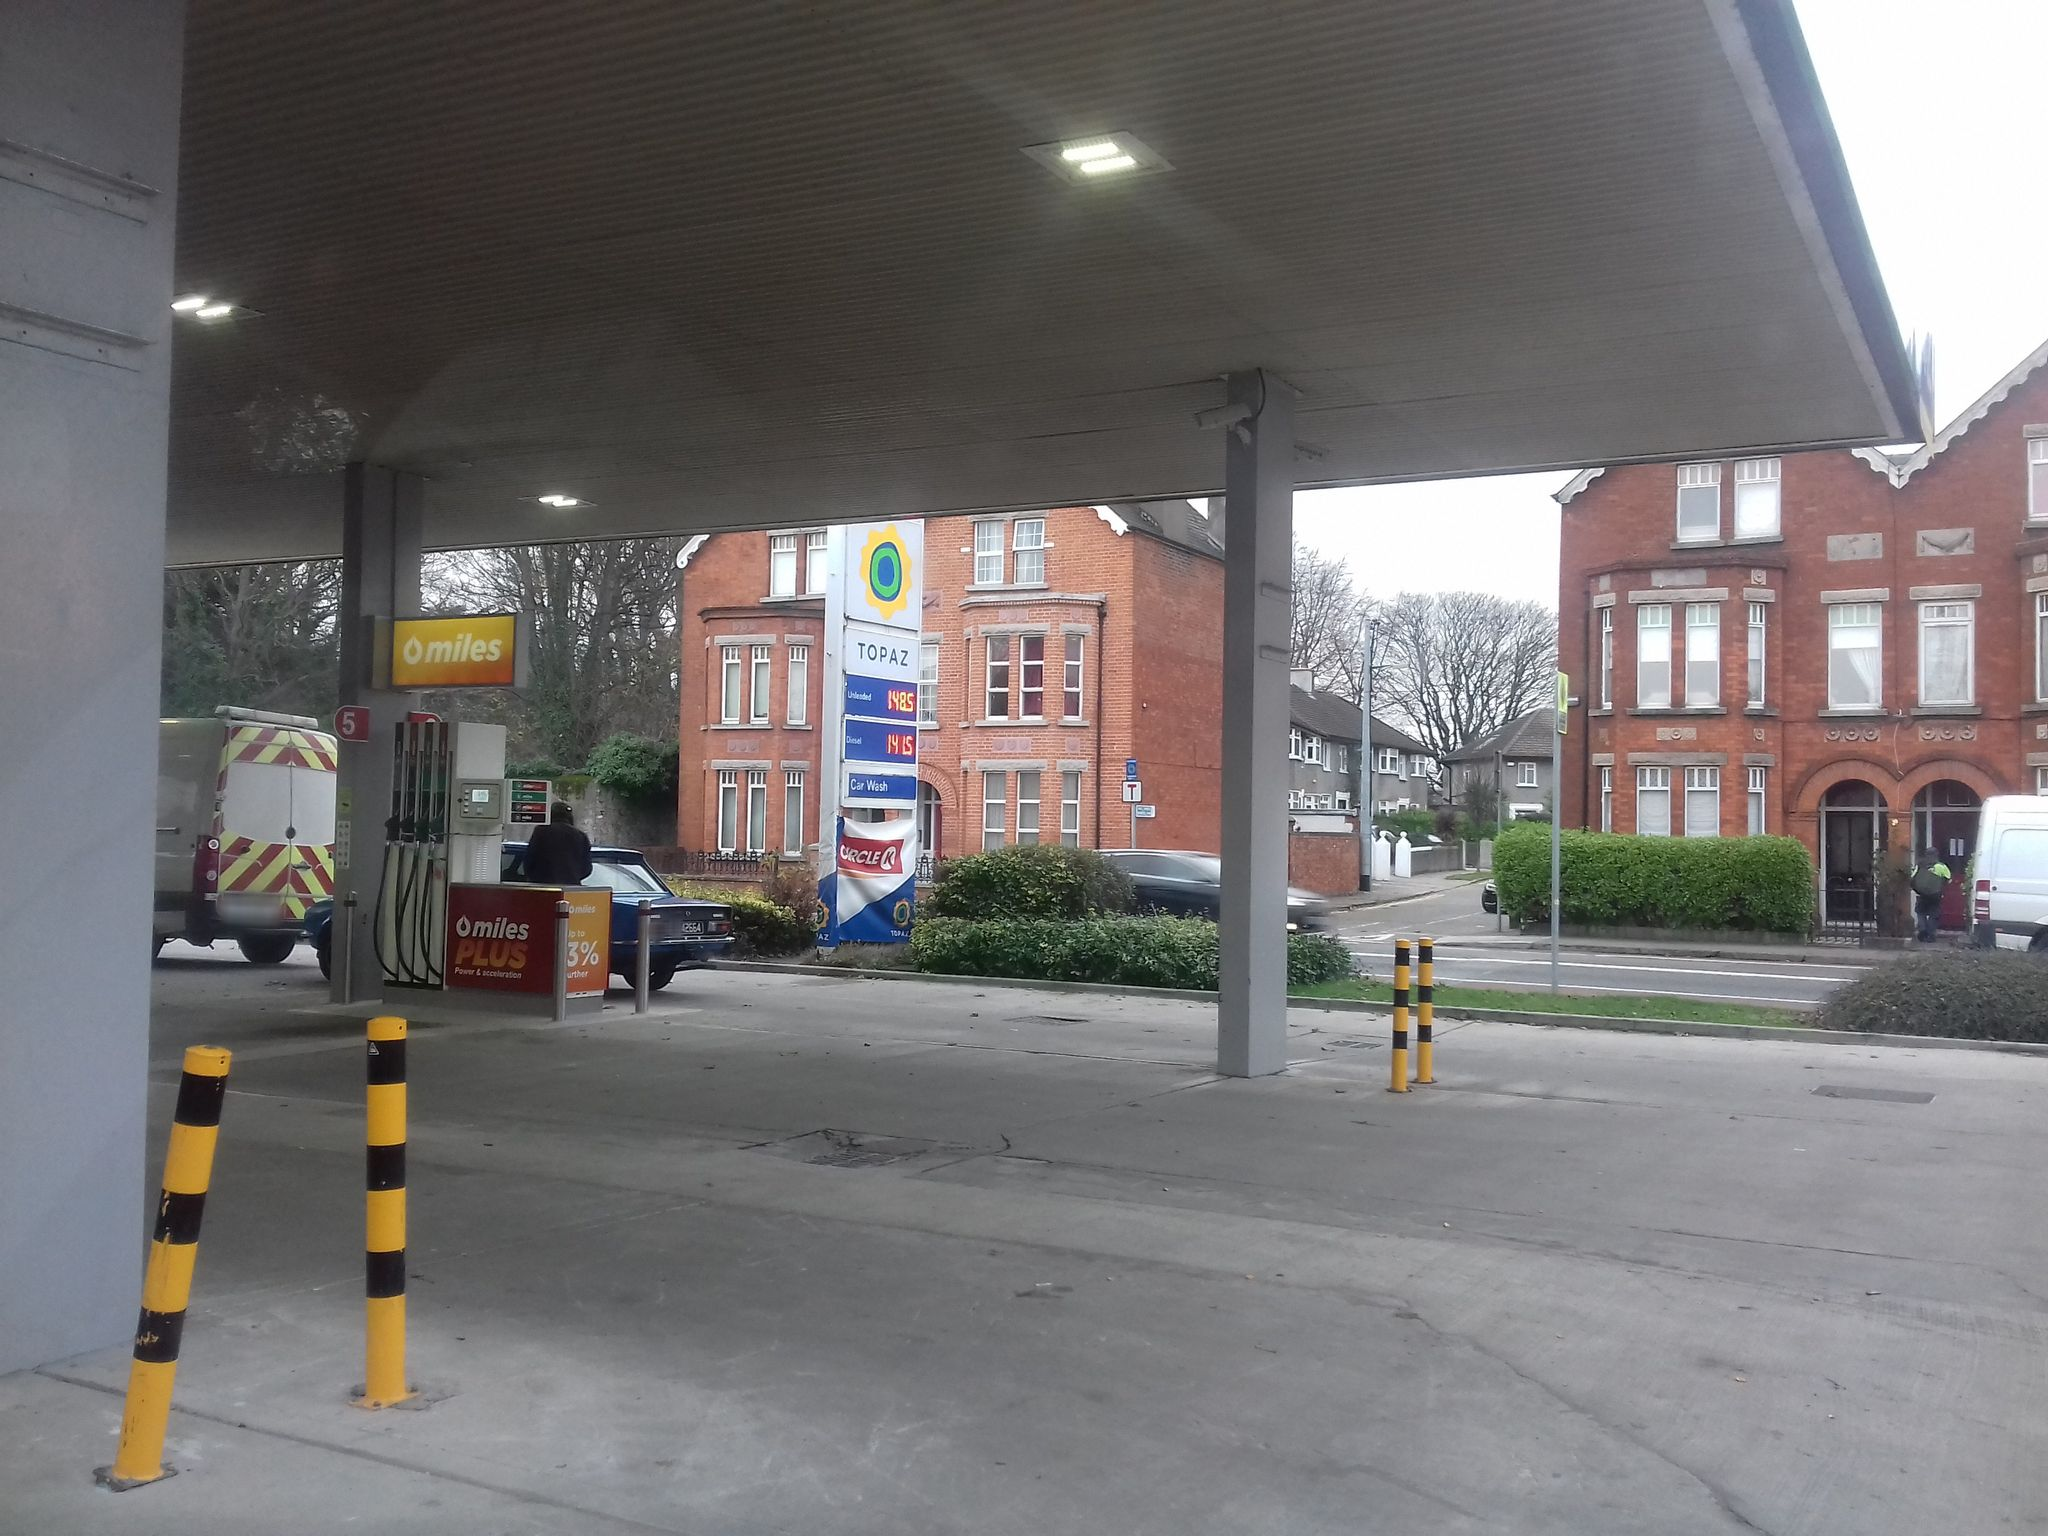vinyl banner: (810, 799, 930, 958)
